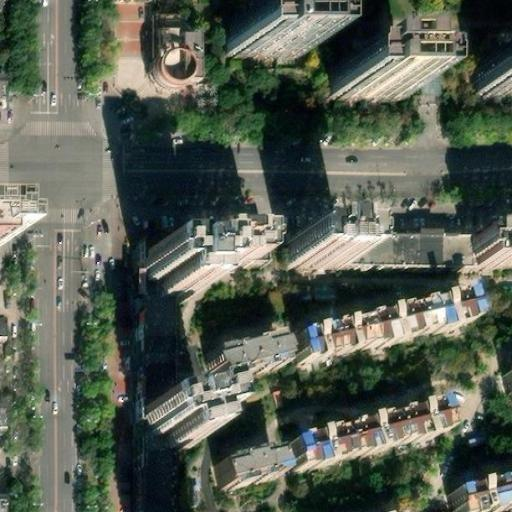building: (310, 282, 490, 353), (282, 400, 441, 469), (148, 278, 191, 421), (325, 231, 484, 265), (141, 385, 216, 449), (212, 328, 293, 379), (155, 12, 207, 90), (145, 427, 187, 512), (228, 16, 310, 56), (145, 250, 206, 299), (334, 58, 414, 94), (213, 451, 270, 491), (192, 223, 269, 252), (446, 479, 512, 512), (286, 232, 337, 269), (482, 232, 512, 265)
